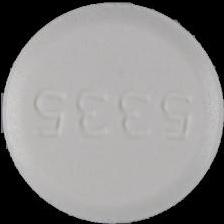61786-751: (0, 0, 224, 224)
